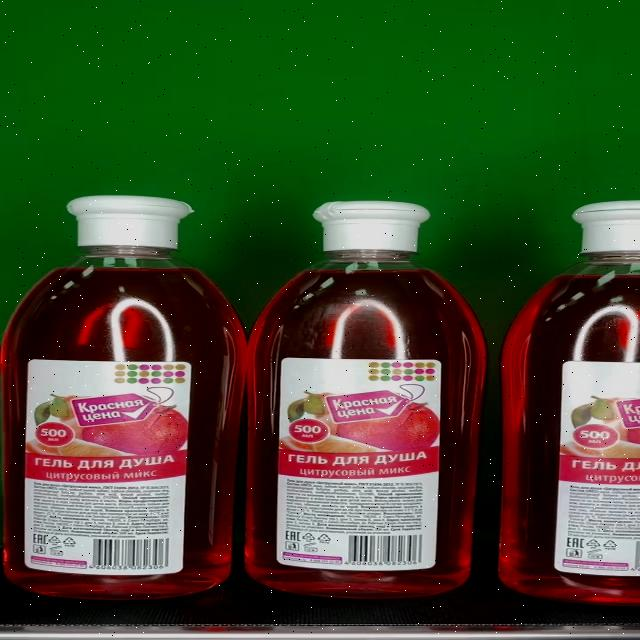Bottle: (2, 195, 244, 599), (245, 201, 486, 598)
Cap: (67, 195, 195, 248), (312, 201, 431, 251)
